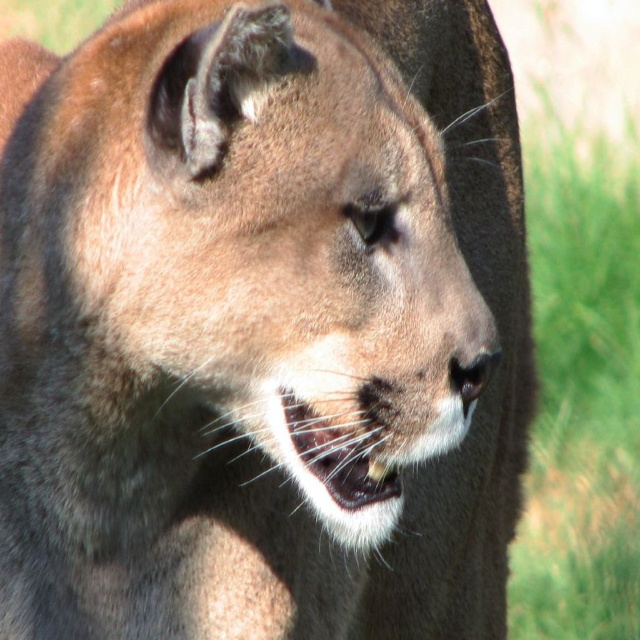Lion: (0, 0, 540, 639)
